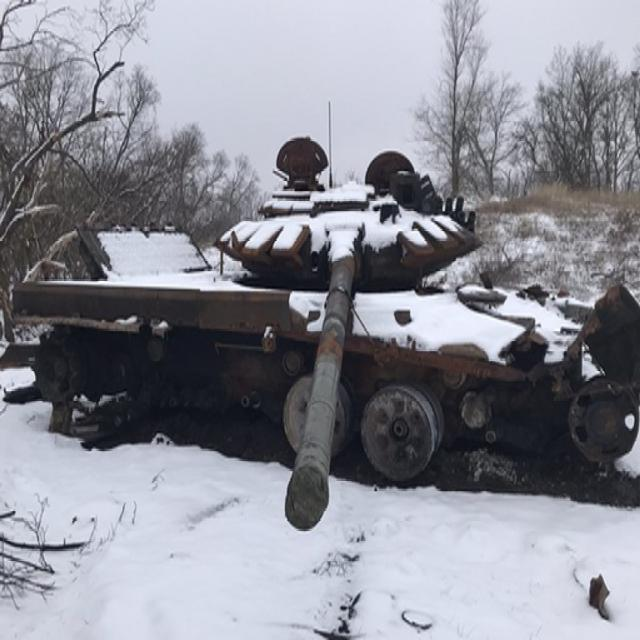TANK: (12, 118, 638, 544)
